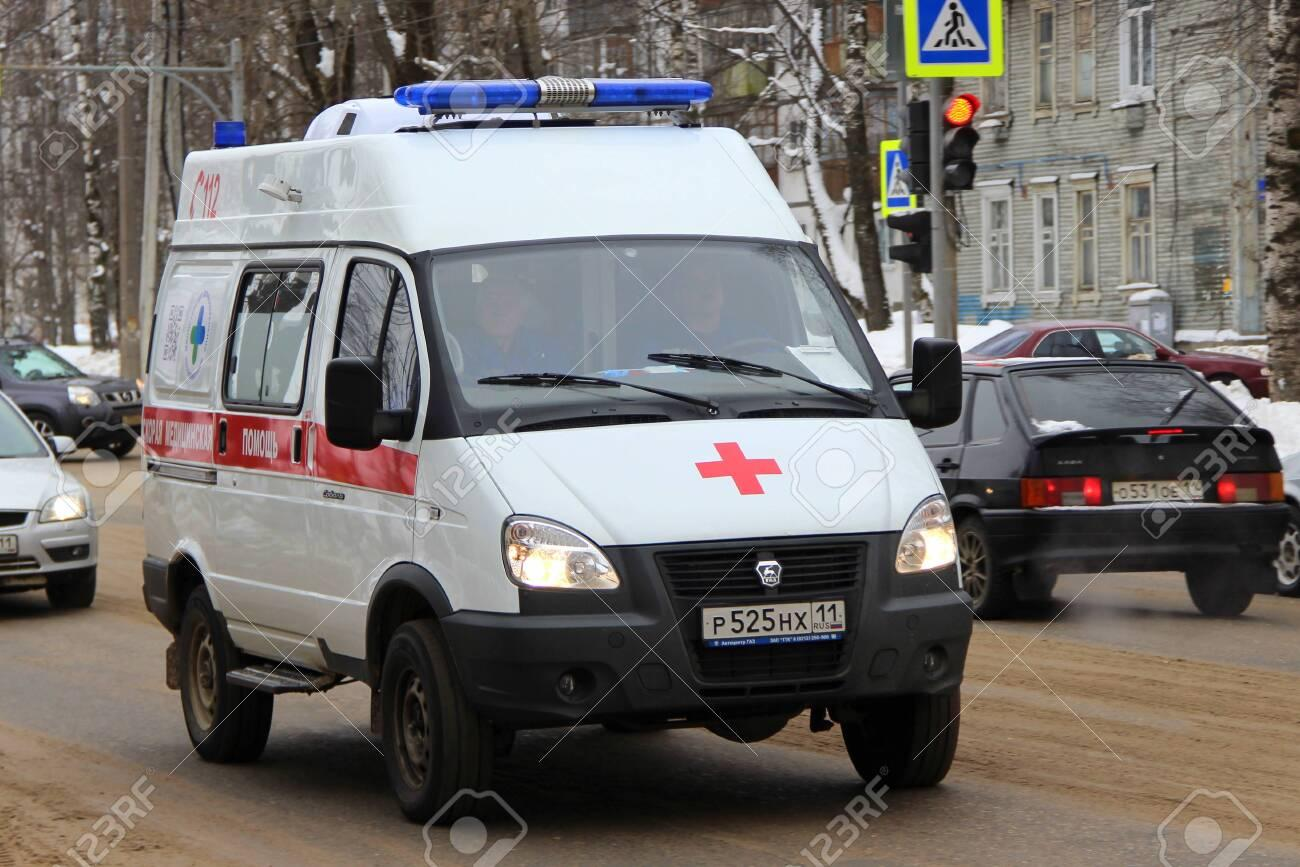ambulance_off: (139, 77, 970, 808)
